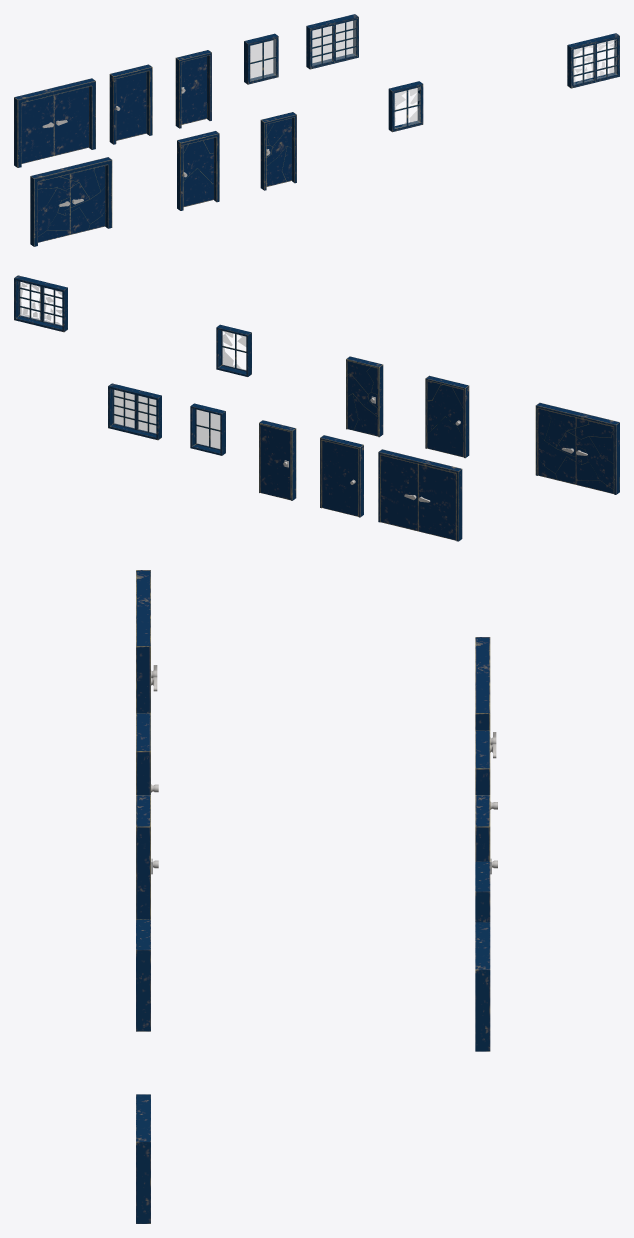
Rendered from BreakableEntrances.gltf.
3 views of the same model, one above another, from view 1: azimuth 30°, elevation 25°; view 2: azimuth 150°, elevation 25°; view 3: azimuth 270°, elevation 25° (orthographic). The views are drawn at different scales.
Parts seen in each view (by area): view 1: DoubleDoor_2, DoubleDoor_1, SingleDoor_1, Door_DoorFrame_Broken_Double, Door_DoorFrame_Double, SingleDoor_2, Door_DoorFrame_Single_1, WindowPanel, Door_DoorFrame_Broken_Single_1, Door_DoorFrame_Broken_single_2, Door_DoorFrame_Single_2, SingleDoor1Piece_4 (+16 smaller); view 2: DoubleDoor_1, DoubleDoor_2, SingleDoor_1, SingleDoor_2, SingleDoor1Piece_4, Door_DoorFrame_Double, Door_DoorFrame_Broken_Double, SingleDoor1Piece_2, Windows_Window_2, Windows_BrokenWindow_2, WindowPanel, Windows_Window_1 (+16 smaller); view 3: Door_DoorFrame_Broken_Double, Windows_Window_2, Windows_BrokenWindow_2, Door_DoorFrame_Broken_single_2, Windows_BrokenWindow_1, Door_DoorFrame_Double, Door_DoorFrame_Broken_Single_1, Door_DoorFrame_Single_2, Door_DoorFrame_Single_1, Windows_Window_1.
Part boxes in pixels (box(x1,y1,x2,y2)): DoubleDoor_2: box(54, 87, 88, 155); DoubleDoor_1: box(21, 95, 53, 163); SingleDoor_1: box(116, 71, 146, 140); Door_DoorFrame_Broken_Double: box(30, 157, 112, 246); Door_DoorFrame_Double: box(14, 78, 95, 167); SingleDoor_2: box(181, 56, 206, 124); Door_DoorFrame_Single_1: box(109, 64, 152, 144); WindowPanel: box(248, 37, 277, 83); Door_DoorFrame_Broken_Single_1: box(177, 131, 219, 210); Door_DoorFrame_Broken_single_2: box(260, 112, 296, 190); Door_DoorFrame_Single_2: box(175, 50, 211, 128); SingleDoor1Piece_4: box(183, 140, 213, 183); DoubleDoor_1: box(418, 464, 456, 540); DoubleDoor_2: box(380, 455, 418, 531); SingleDoor_1: box(321, 440, 358, 516); SingleDoor_2: box(260, 424, 291, 500); SingleDoor1Piece_4: box(427, 384, 463, 440); Door_DoorFrame_Double: box(378, 449, 462, 541); Door_DoorFrame_Broken_Double: box(535, 402, 619, 494); SingleDoor1Piece_2: box(427, 416, 463, 457); Windows_Window_2: box(108, 383, 161, 440); Windows_BrokenWindow_2: box(14, 275, 67, 332); WindowPanel: box(195, 409, 220, 450); Windows_Window_1: box(190, 403, 225, 455); Door_DoorFrame_Broken_Double: box(136, 570, 150, 713); Windows_Window_2: box(475, 922, 490, 1051); Windows_BrokenWindow_2: box(136, 1094, 150, 1223); Door_DoorFrame_Broken_single_2: box(136, 795, 150, 919); Windows_BrokenWindow_1: box(136, 919, 150, 1031); Door_DoorFrame_Double: box(475, 637, 490, 730); Door_DoorFrame_Broken_Single_1: box(136, 713, 150, 794); Door_DoorFrame_Single_2: box(475, 795, 490, 861); Door_DoorFrame_Single_1: box(475, 730, 490, 794); Windows_Window_1: box(475, 861, 490, 922).
Size of what is drawn, in the model's own units: 18 by 2 by 4.82.
2 materials, 1 textured.
